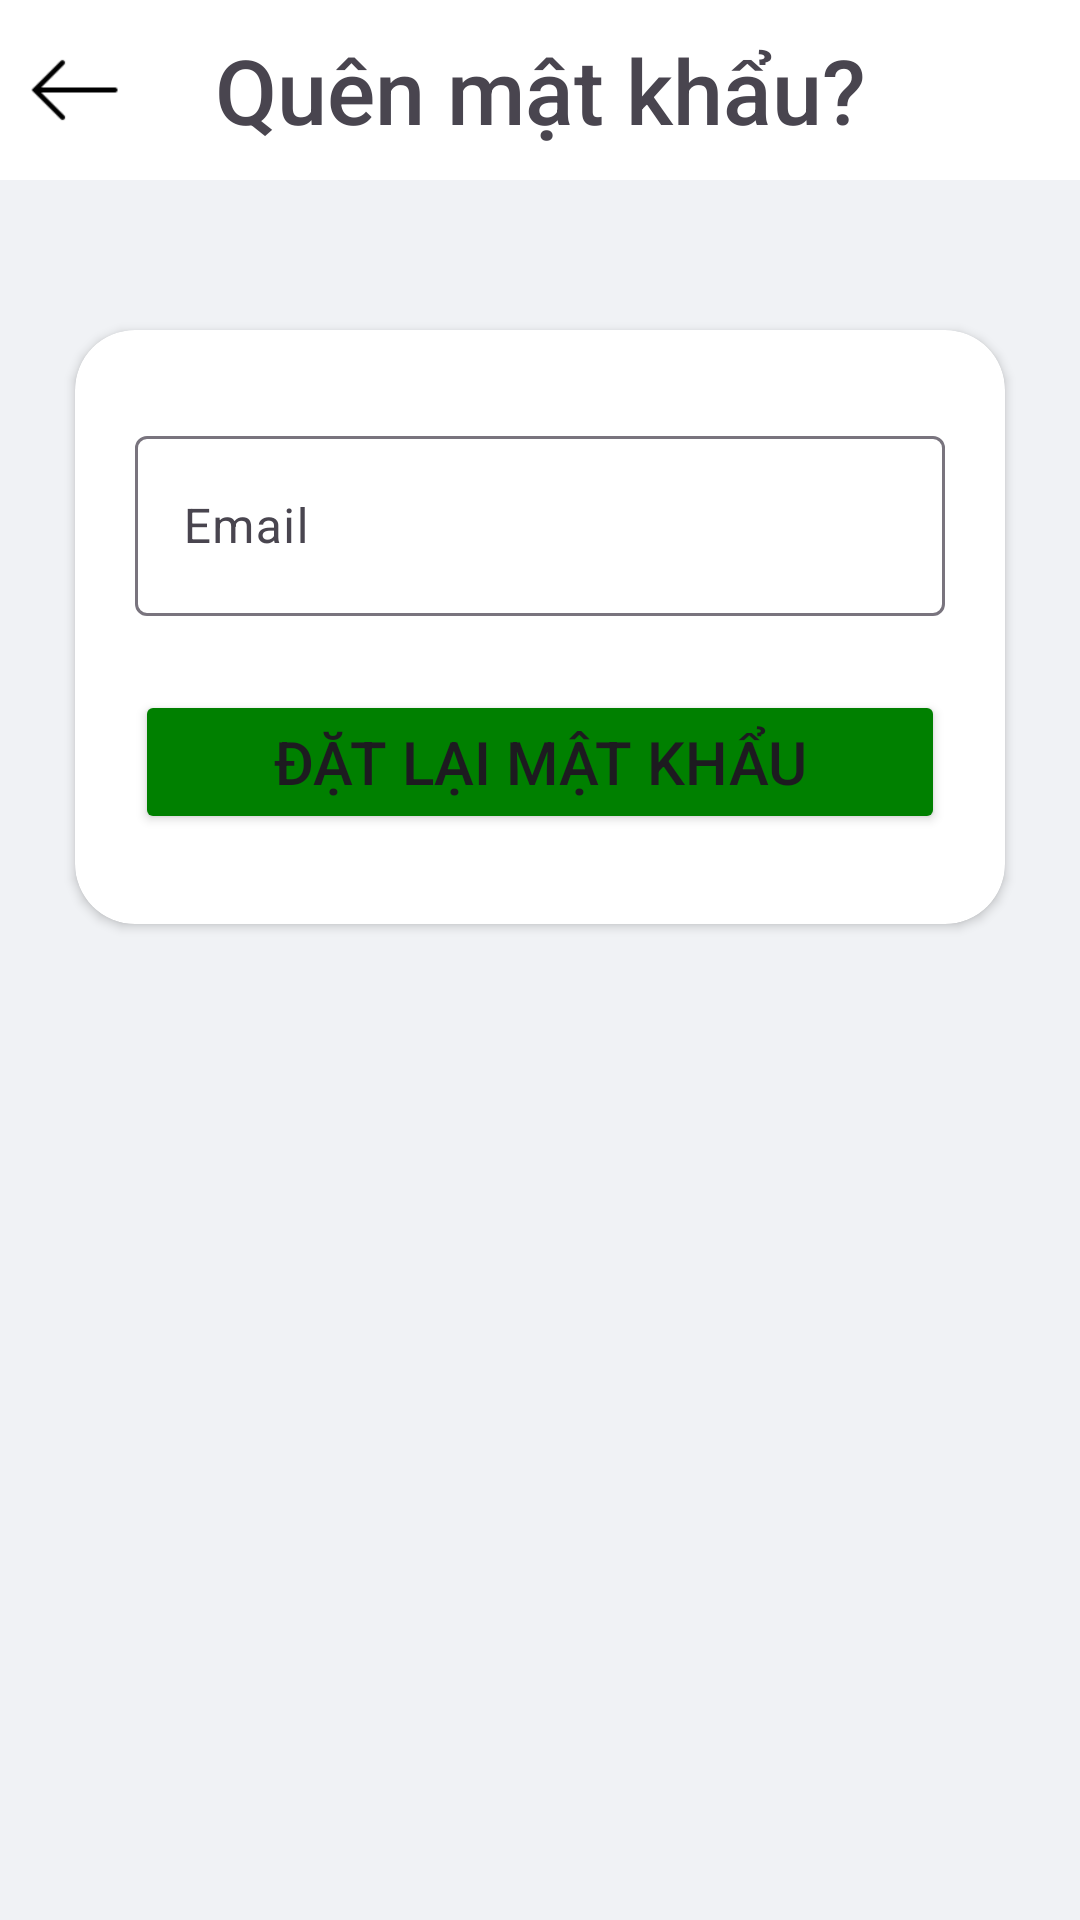

Screen size 1080px×1920px. Icon name, then its center in pixels as (x,y):
back: (74,90)
